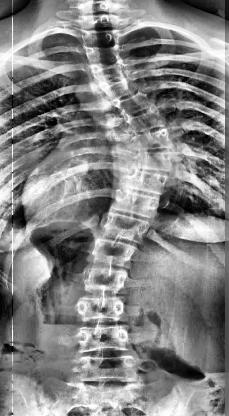Vertebrae: (97, 214, 154, 245), (72, 326, 134, 352), (80, 355, 138, 382), (84, 239, 139, 266), (78, 265, 130, 293), (74, 295, 126, 321), (111, 191, 163, 215), (121, 172, 170, 194), (124, 108, 167, 132), (126, 150, 172, 172), (130, 127, 172, 151), (89, 62, 127, 83), (86, 44, 120, 66), (116, 92, 152, 112), (98, 80, 134, 100), (85, 28, 117, 46)
